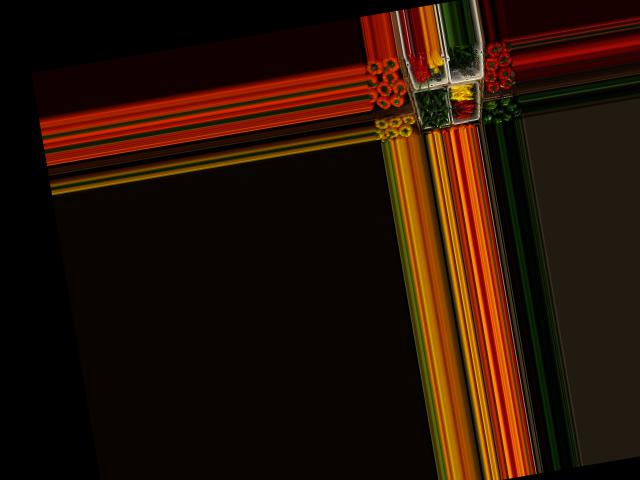bell_pepper: (496, 94, 513, 111)
